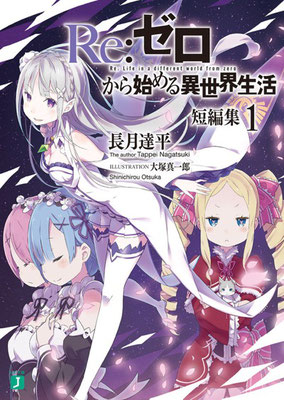rem: (28, 189, 105, 396)
